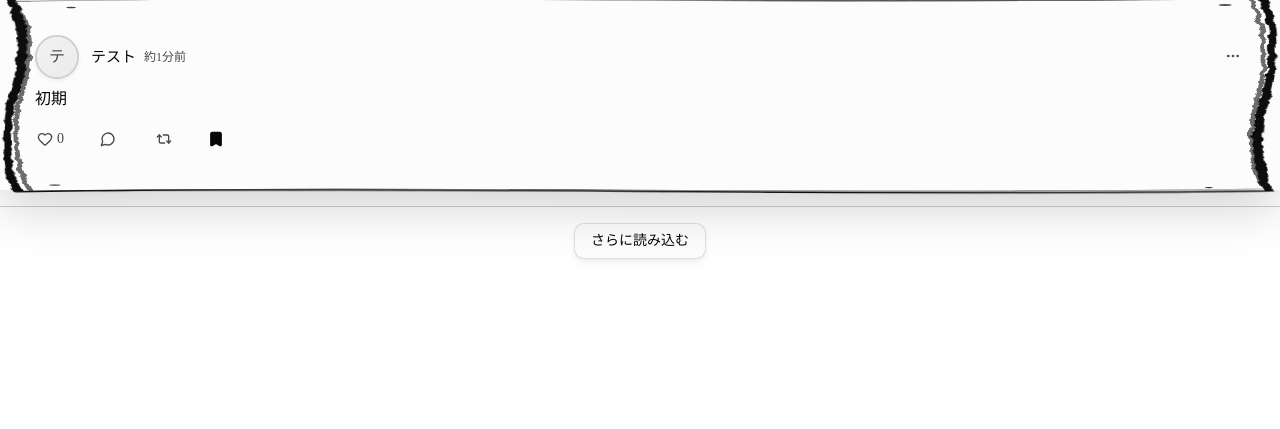
BookmarkPostList › 追加読み込み後に次のカーソルがなければボタンが消える
Click the button "さらに読み込む" at (640, 241), box [574, 223, 706, 259]
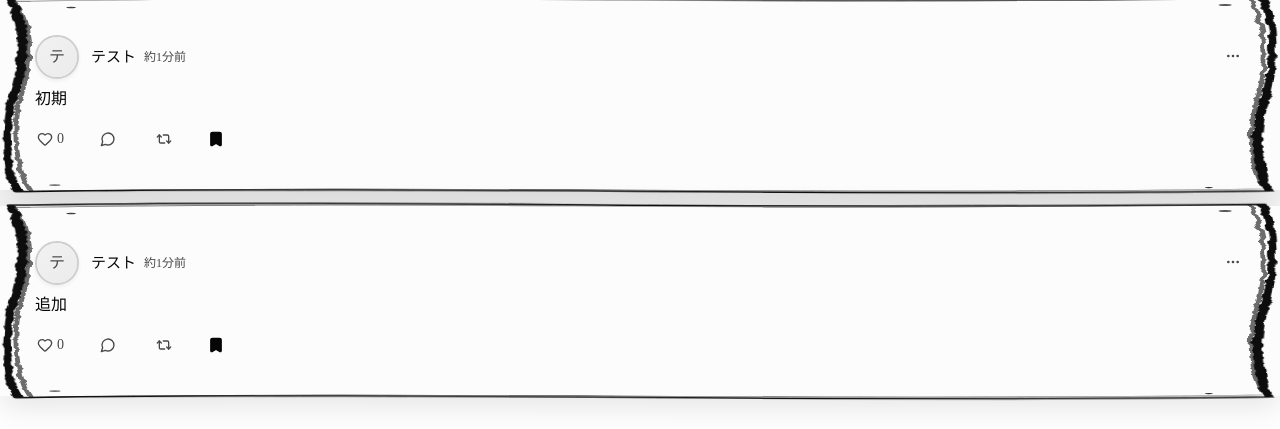
Result: the button "さらに読み込む" is gone
